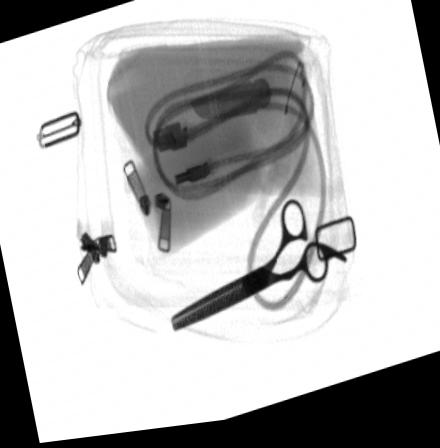Scissors: (168, 203, 347, 338)
